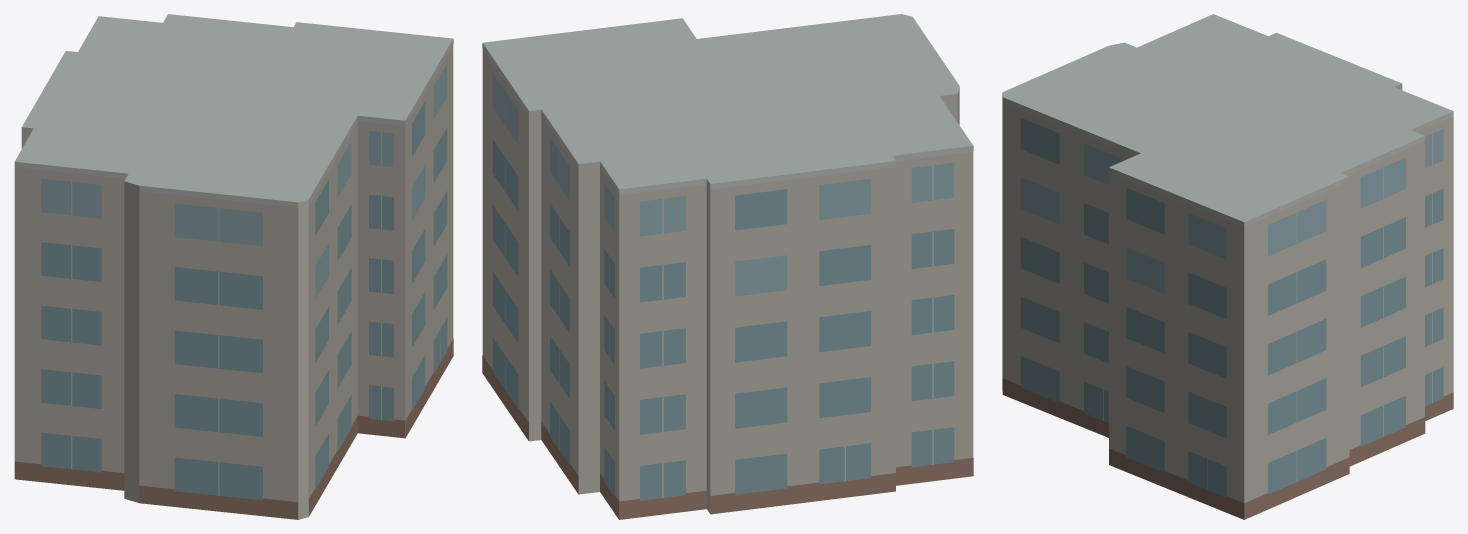
The model's file is survey-upis-32903757.glb.
3 views of the same model, side by side, from view 1: azimuth 30°, elevation 25°; view 2: azimuth 150°, elevation 25°; view 3: azimuth 270°, elevation 25° (orthographic). The views are drawn at different scales.
Visible parts, largest first — view 1: survey-upis-32903757.tmp; view 2: survey-upis-32903757.tmp; view 3: survey-upis-32903757.tmp.
Part boxes in pixels (x1=…): survey-upis-32903757.tmp: x1=14, y1=14, x2=453, y2=519; survey-upis-32903757.tmp: x1=482, y1=14, x2=973, y2=519; survey-upis-32903757.tmp: x1=1002, y1=14, x2=1453, y2=519.
Size of the model in its own units: 21.32 by 14.2 by 19.52.
